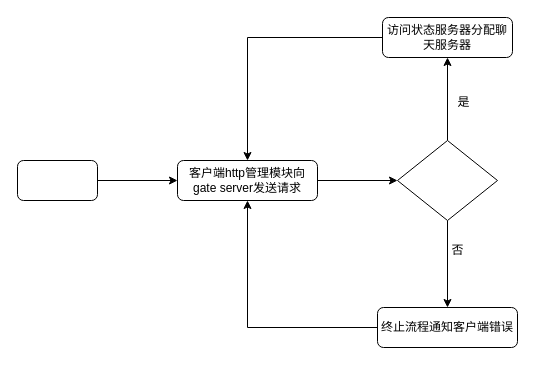
Image size: 535x365. Some labels were removed from this diagram. The shapes that lost their labels are listed below. From the top down, each one's box as (x1, y1, x2, y2) in pixels, then its label:
(16, 160, 98, 200): 用户点击注册
(396, 140, 498, 220): 密码是否正确
